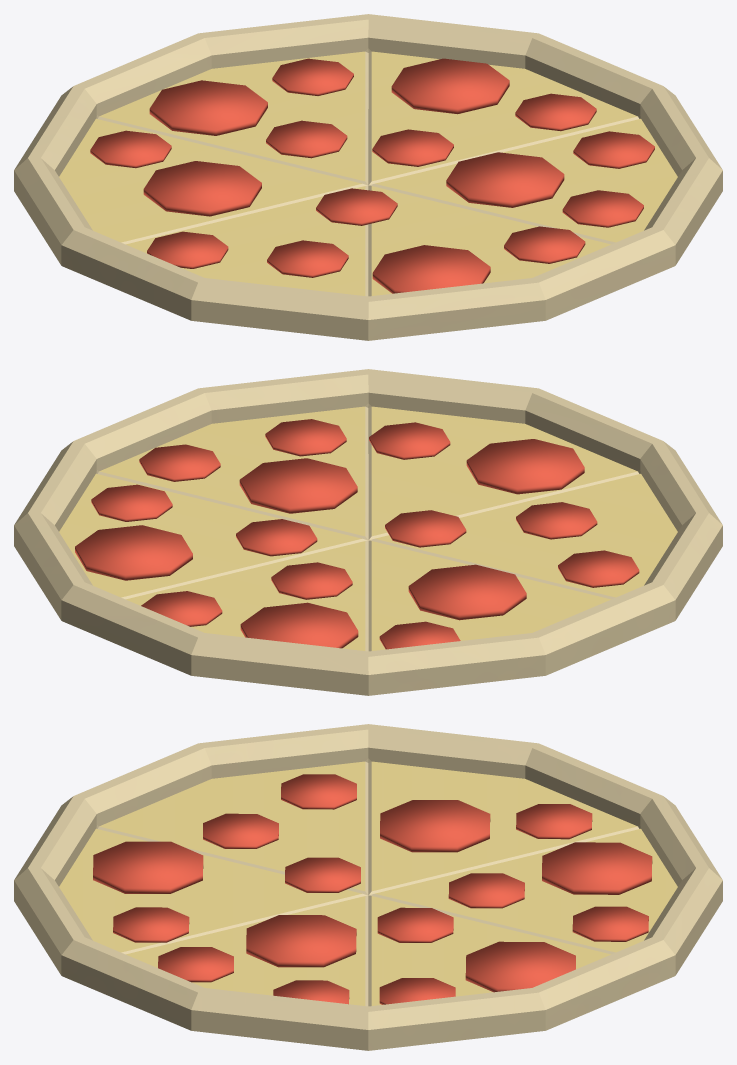
Rendered from pizza-pepperoni.glb.
3 renders of one model, top to bottom at view 1: azimuth 30°, elevation 25°; view 2: azimuth 150°, elevation 25°; view 3: azimuth 270°, elevation 25°, orthographic.
Parts seen in each view (by area): view 1: PizzaPepperoni.001; view 2: PizzaPepperoni.001; view 3: PizzaPepperoni.001.
Part boxes in pixels (left/top/right/bottom): PizzaPepperoni.001: left=14, top=14, right=722, bottom=340; PizzaPepperoni.001: left=14, top=369, right=722, bottom=695; PizzaPepperoni.001: left=14, top=724, right=722, bottom=1050.
Bounding box in the file's own units: 0.596 × 0.0307 × 0.596.
1 material, 1 textured.
